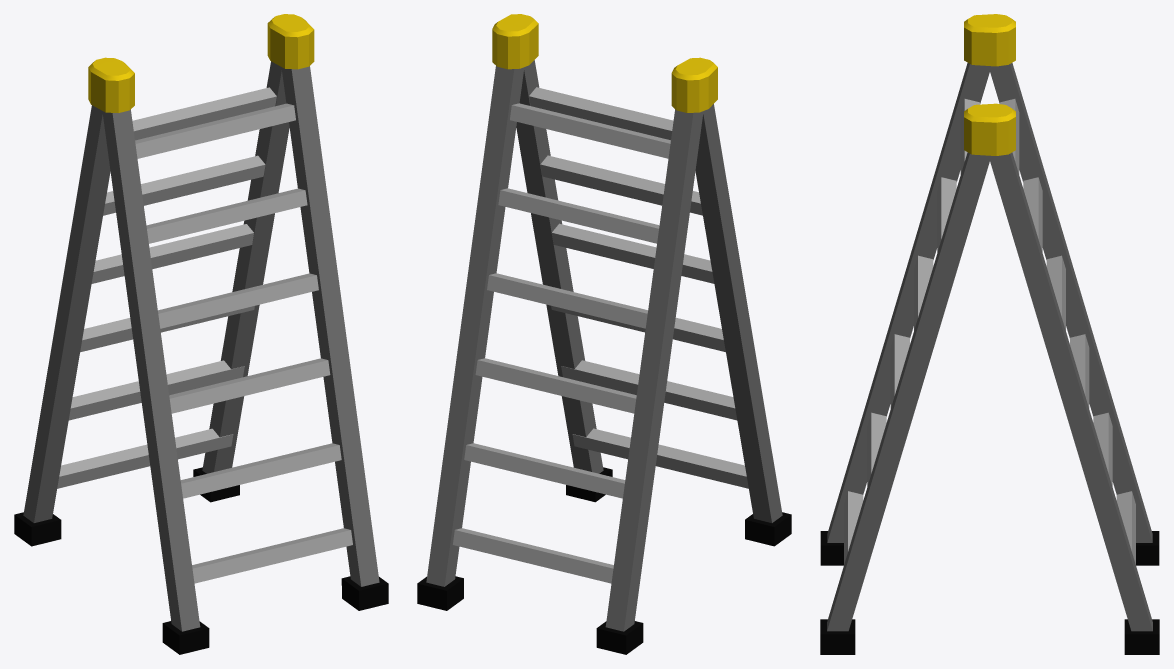
The model's file is echelle.fbx.
The picture shows the model from 3 angles, left to right: view 1: azimuth 30°, elevation 25°; view 2: azimuth 150°, elevation 25°; view 3: azimuth 270°, elevation 25°; orthographic projection. The views are drawn at different scales.
Visible parts, largest first — view 1: echelle; view 2: echelle; view 3: echelle.
Boxes of the visible parts, x1,y1,x2,y2 form: echelle: [14, 14, 388, 654]; echelle: [417, 14, 791, 654]; echelle: [820, 14, 1159, 654].
Bounding box in the file's own units: 0.7854 × 1.84 × 1.05.
